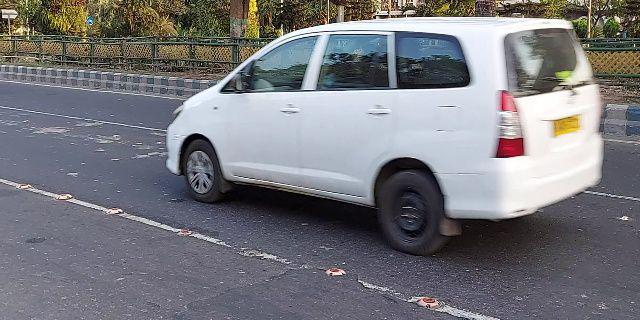Car: (163, 15, 608, 259)
